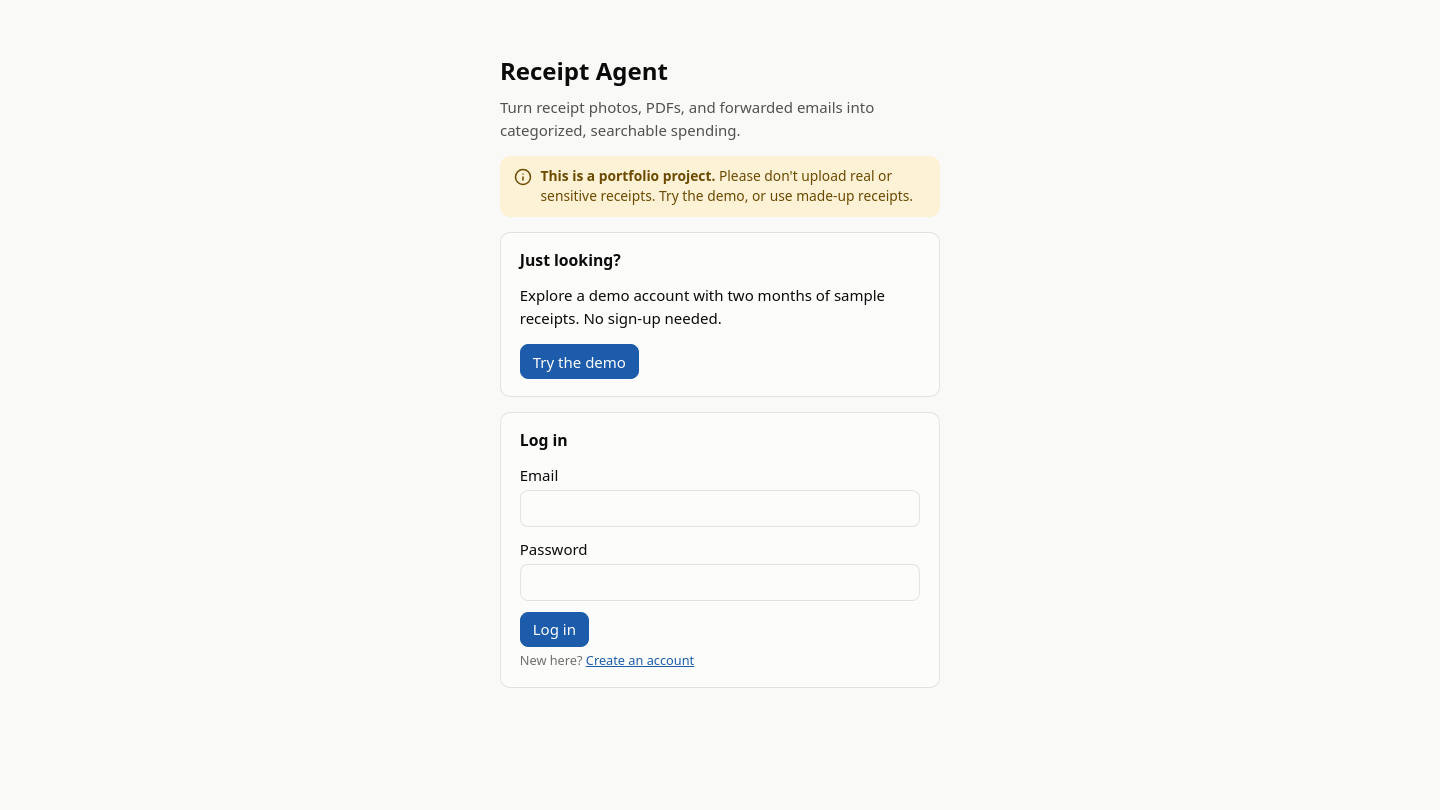
it: "Try the demo" opens a demo account with a banner
Click the button "Try the demo". click: (579, 362)
box: left=520, top=344, right=639, bottom=379
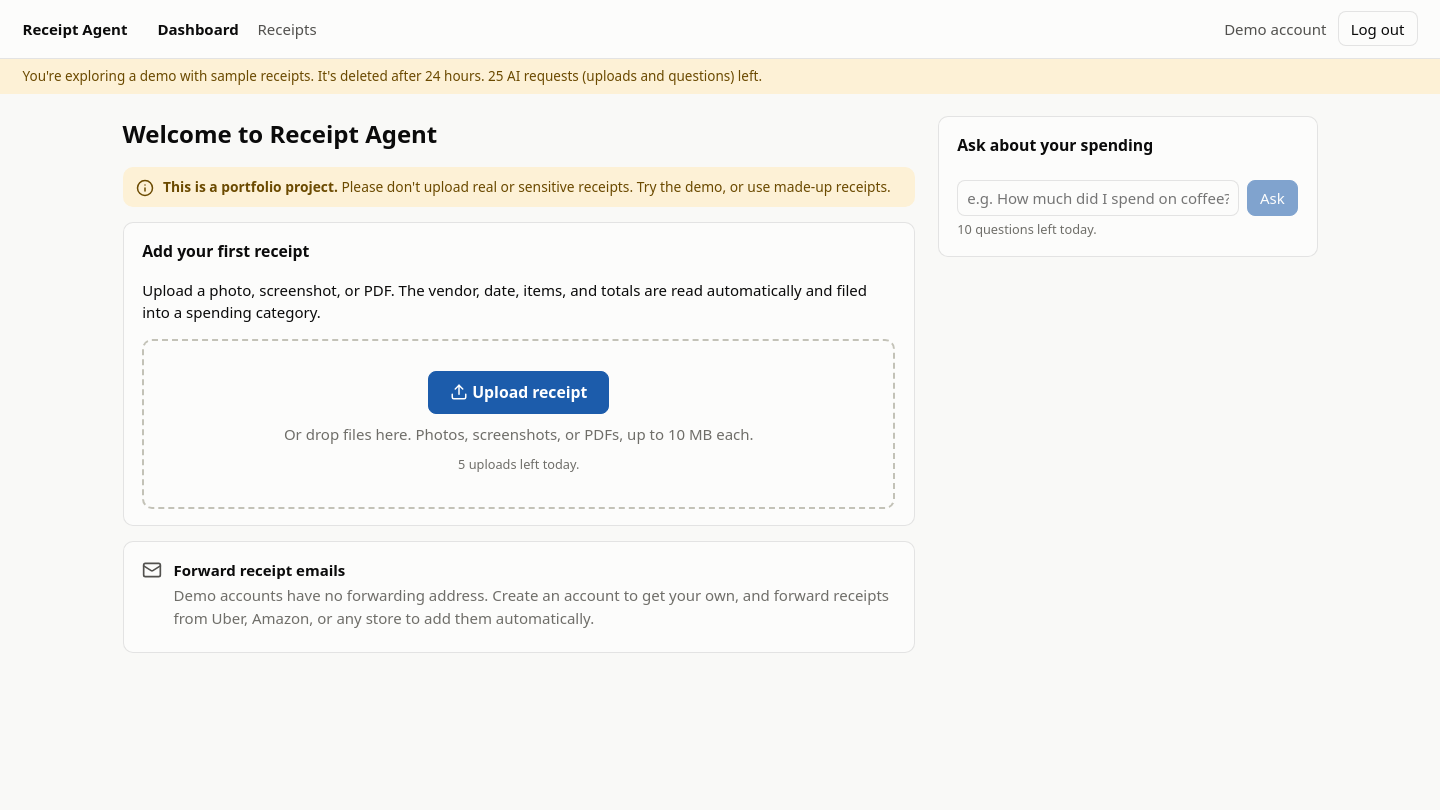
Check: the link "Demo account" is shown, box left=1224, top=18, right=1326, bottom=40
Check: the message shows "25 AI requests", box left=488, top=67, right=762, bottom=85
